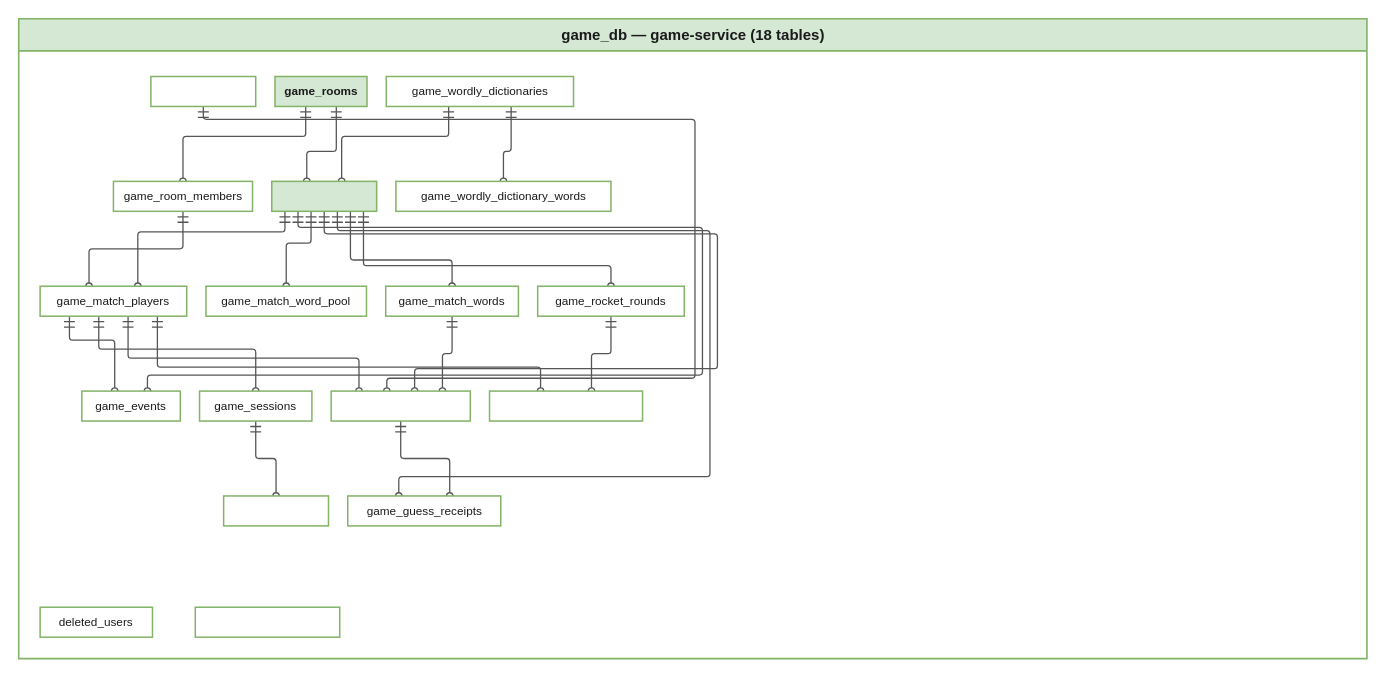
This 1387x678 diagram has some shape labels left out. Each missing label, with the centre of its shape:
game_answers: point 275,510
game_guesses: point 203,91
game_matches: point 323,196
game_player_words: point 400,405
game_rocket_answers: point 565,405
user_deletion_jobs: point 267,621
